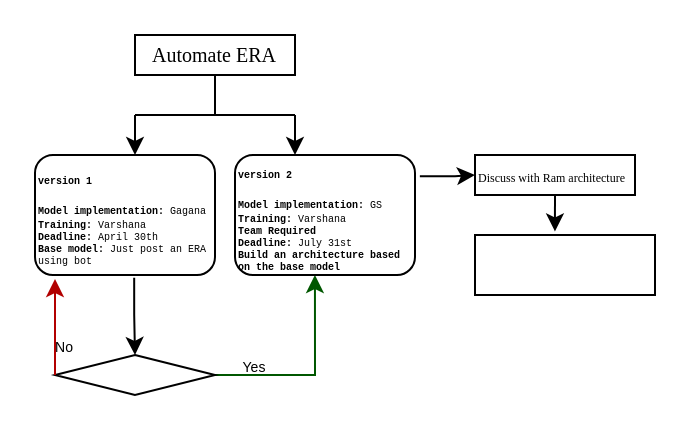
Image size: 690x430. Some labels were removed from this diagram. Each missing label, with the centre of its shape:
"approved" belongs at pixel 134 374.
"Build the rules for each practice Team leaders conritbution required" belongs at pixel 564 264.
